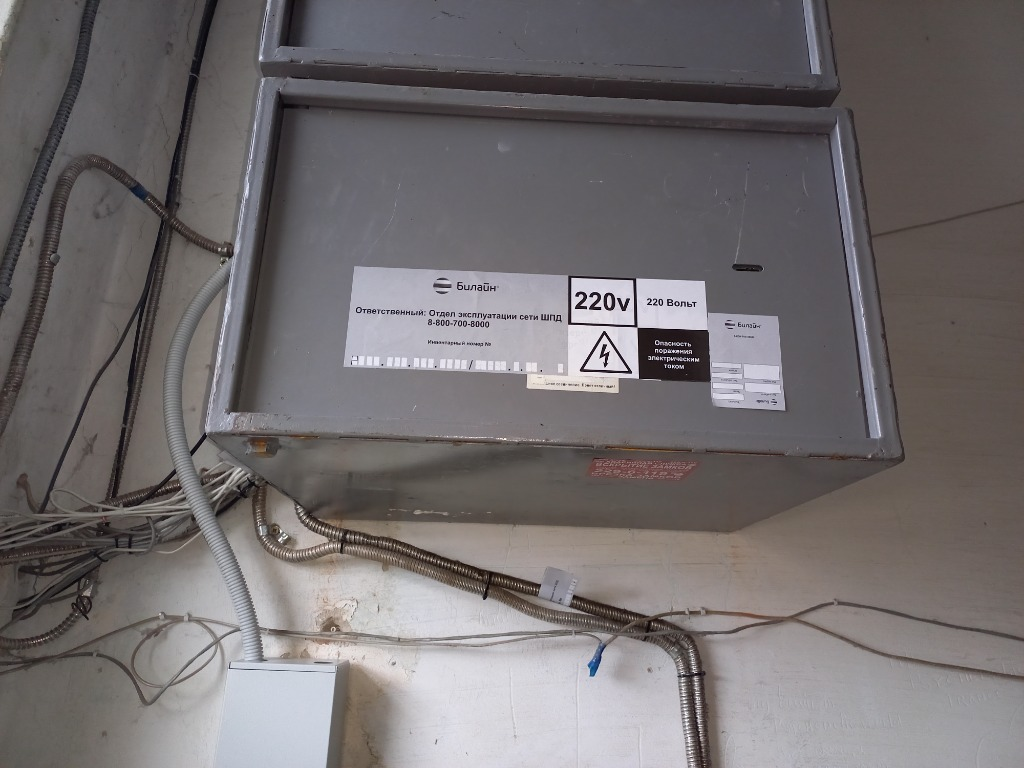e2-6u: (198, 69, 911, 550)
